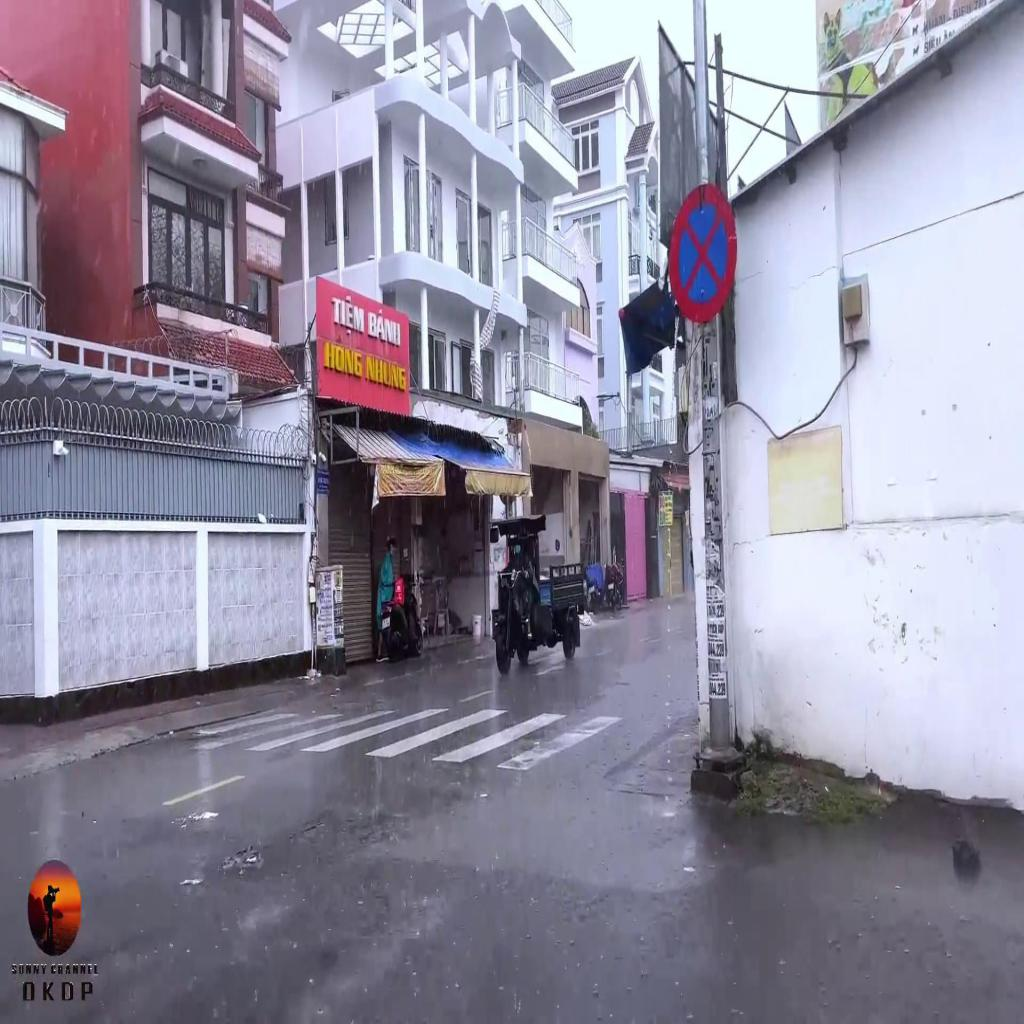cam_dung_xe_va_do_xe: (669, 183, 736, 321)
